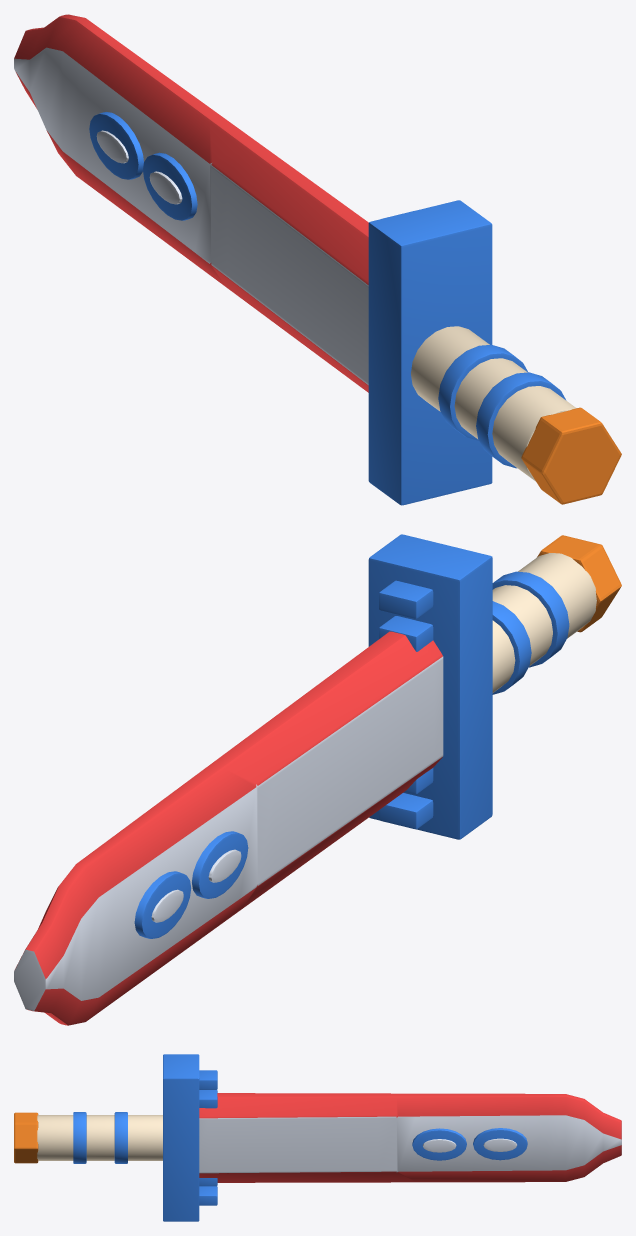
File: Sword_Chainbreaker.glb
3 renders of one model, top to bottom at view 1: azimuth 30°, elevation 25°; view 2: azimuth 150°, elevation 25°; view 3: azimuth 270°, elevation 25°, orthographic. The views are drawn at different scales.
Visible parts, largest first — view 1: Sword_Chainbreaker; view 2: Sword_Chainbreaker; view 3: Sword_Chainbreaker.
Boxes of the visible parts, x1,y1,x2,y2 form: Sword_Chainbreaker: (14,14,621,505); Sword_Chainbreaker: (14,534,621,1025); Sword_Chainbreaker: (14,1054,621,1221).
Size of the model in its own units: 0.096 by 0.26 by 1.
Materials: 1 (1 with a texture image).
